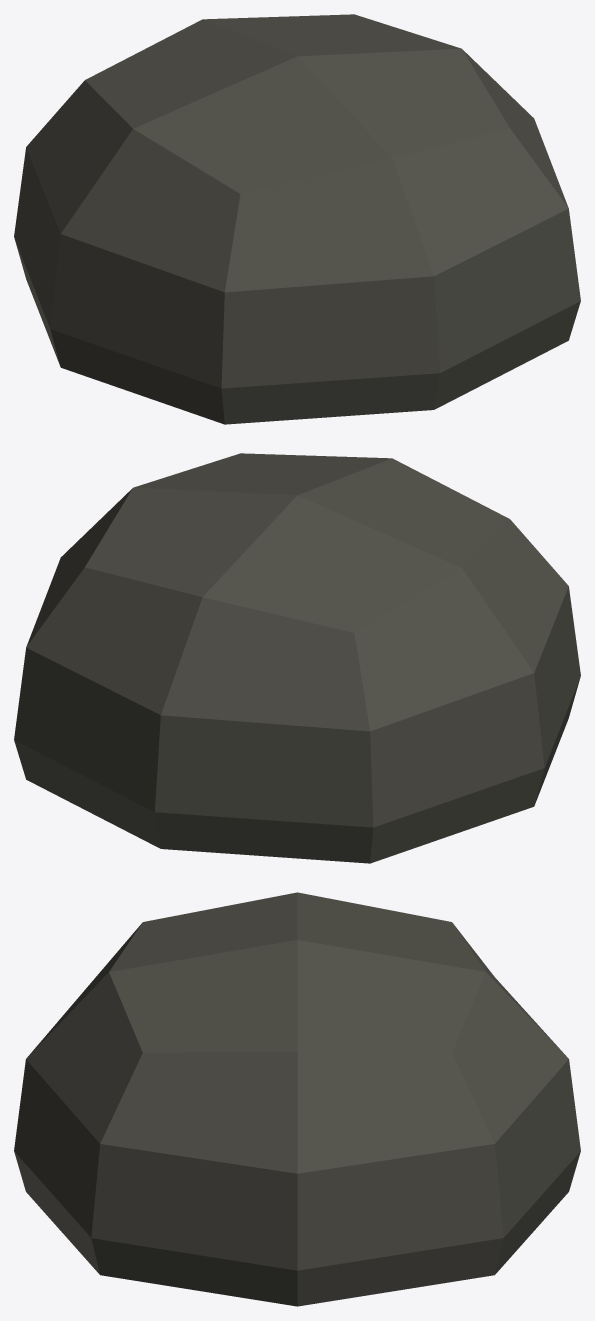
The model's file is Rock3.fbx.
The picture shows the model from 3 angles, top to bottom: view 1: azimuth 30°, elevation 25°; view 2: azimuth 150°, elevation 25°; view 3: azimuth 270°, elevation 25°; orthographic projection.
Visible parts, largest first — view 1: Rock3; view 2: Rock3; view 3: Rock3.
Part boxes in pixels (box(x1,y1,x2,y2)): Rock3: box(14, 14, 580, 424); Rock3: box(14, 453, 580, 863); Rock3: box(14, 892, 580, 1306).
Bounding box in the file's own units: 183 × 183 × 91.98.
